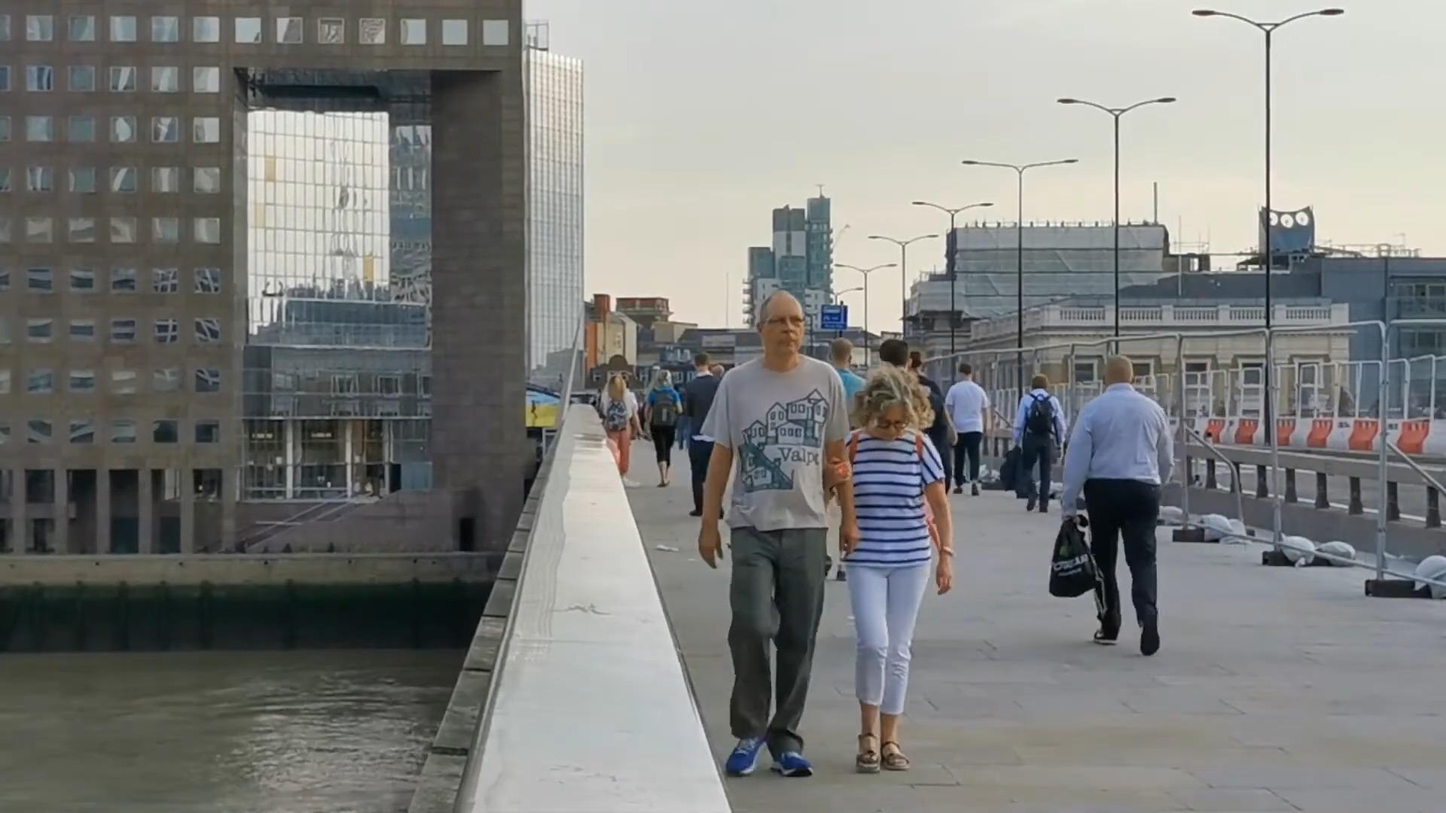no-helmet: (849, 362, 936, 442), (757, 290, 805, 355), (1103, 355, 1135, 389), (828, 336, 854, 370), (606, 374, 627, 399), (694, 354, 709, 373), (958, 364, 972, 380)
